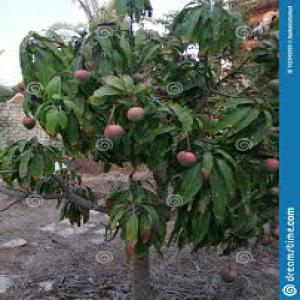Tree: (7, 2, 274, 292)
